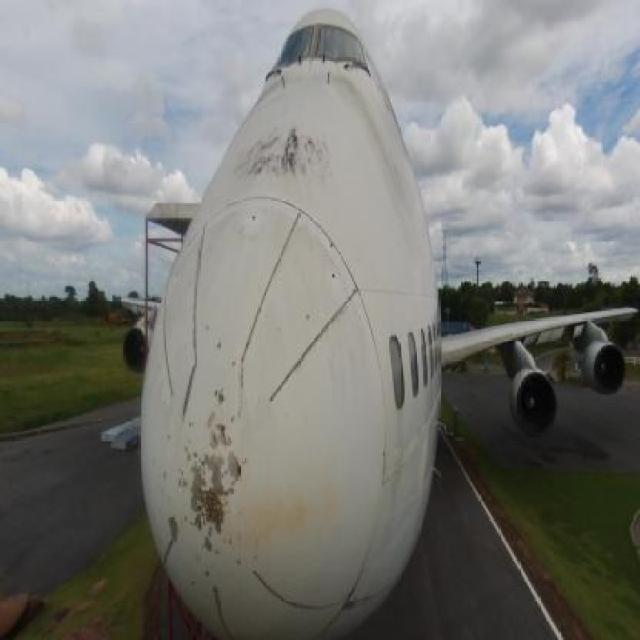Rust: (338, 84, 411, 218), (234, 478, 340, 556), (237, 128, 329, 192), (194, 485, 235, 543)
Scartch: (187, 438, 244, 556), (154, 506, 188, 552), (342, 578, 362, 616)
